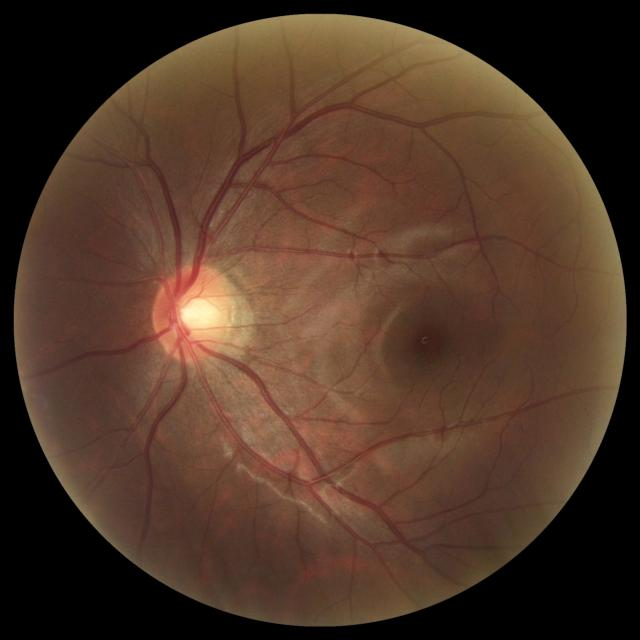OC: (173, 289, 217, 333)
OD: (152, 264, 235, 361)
